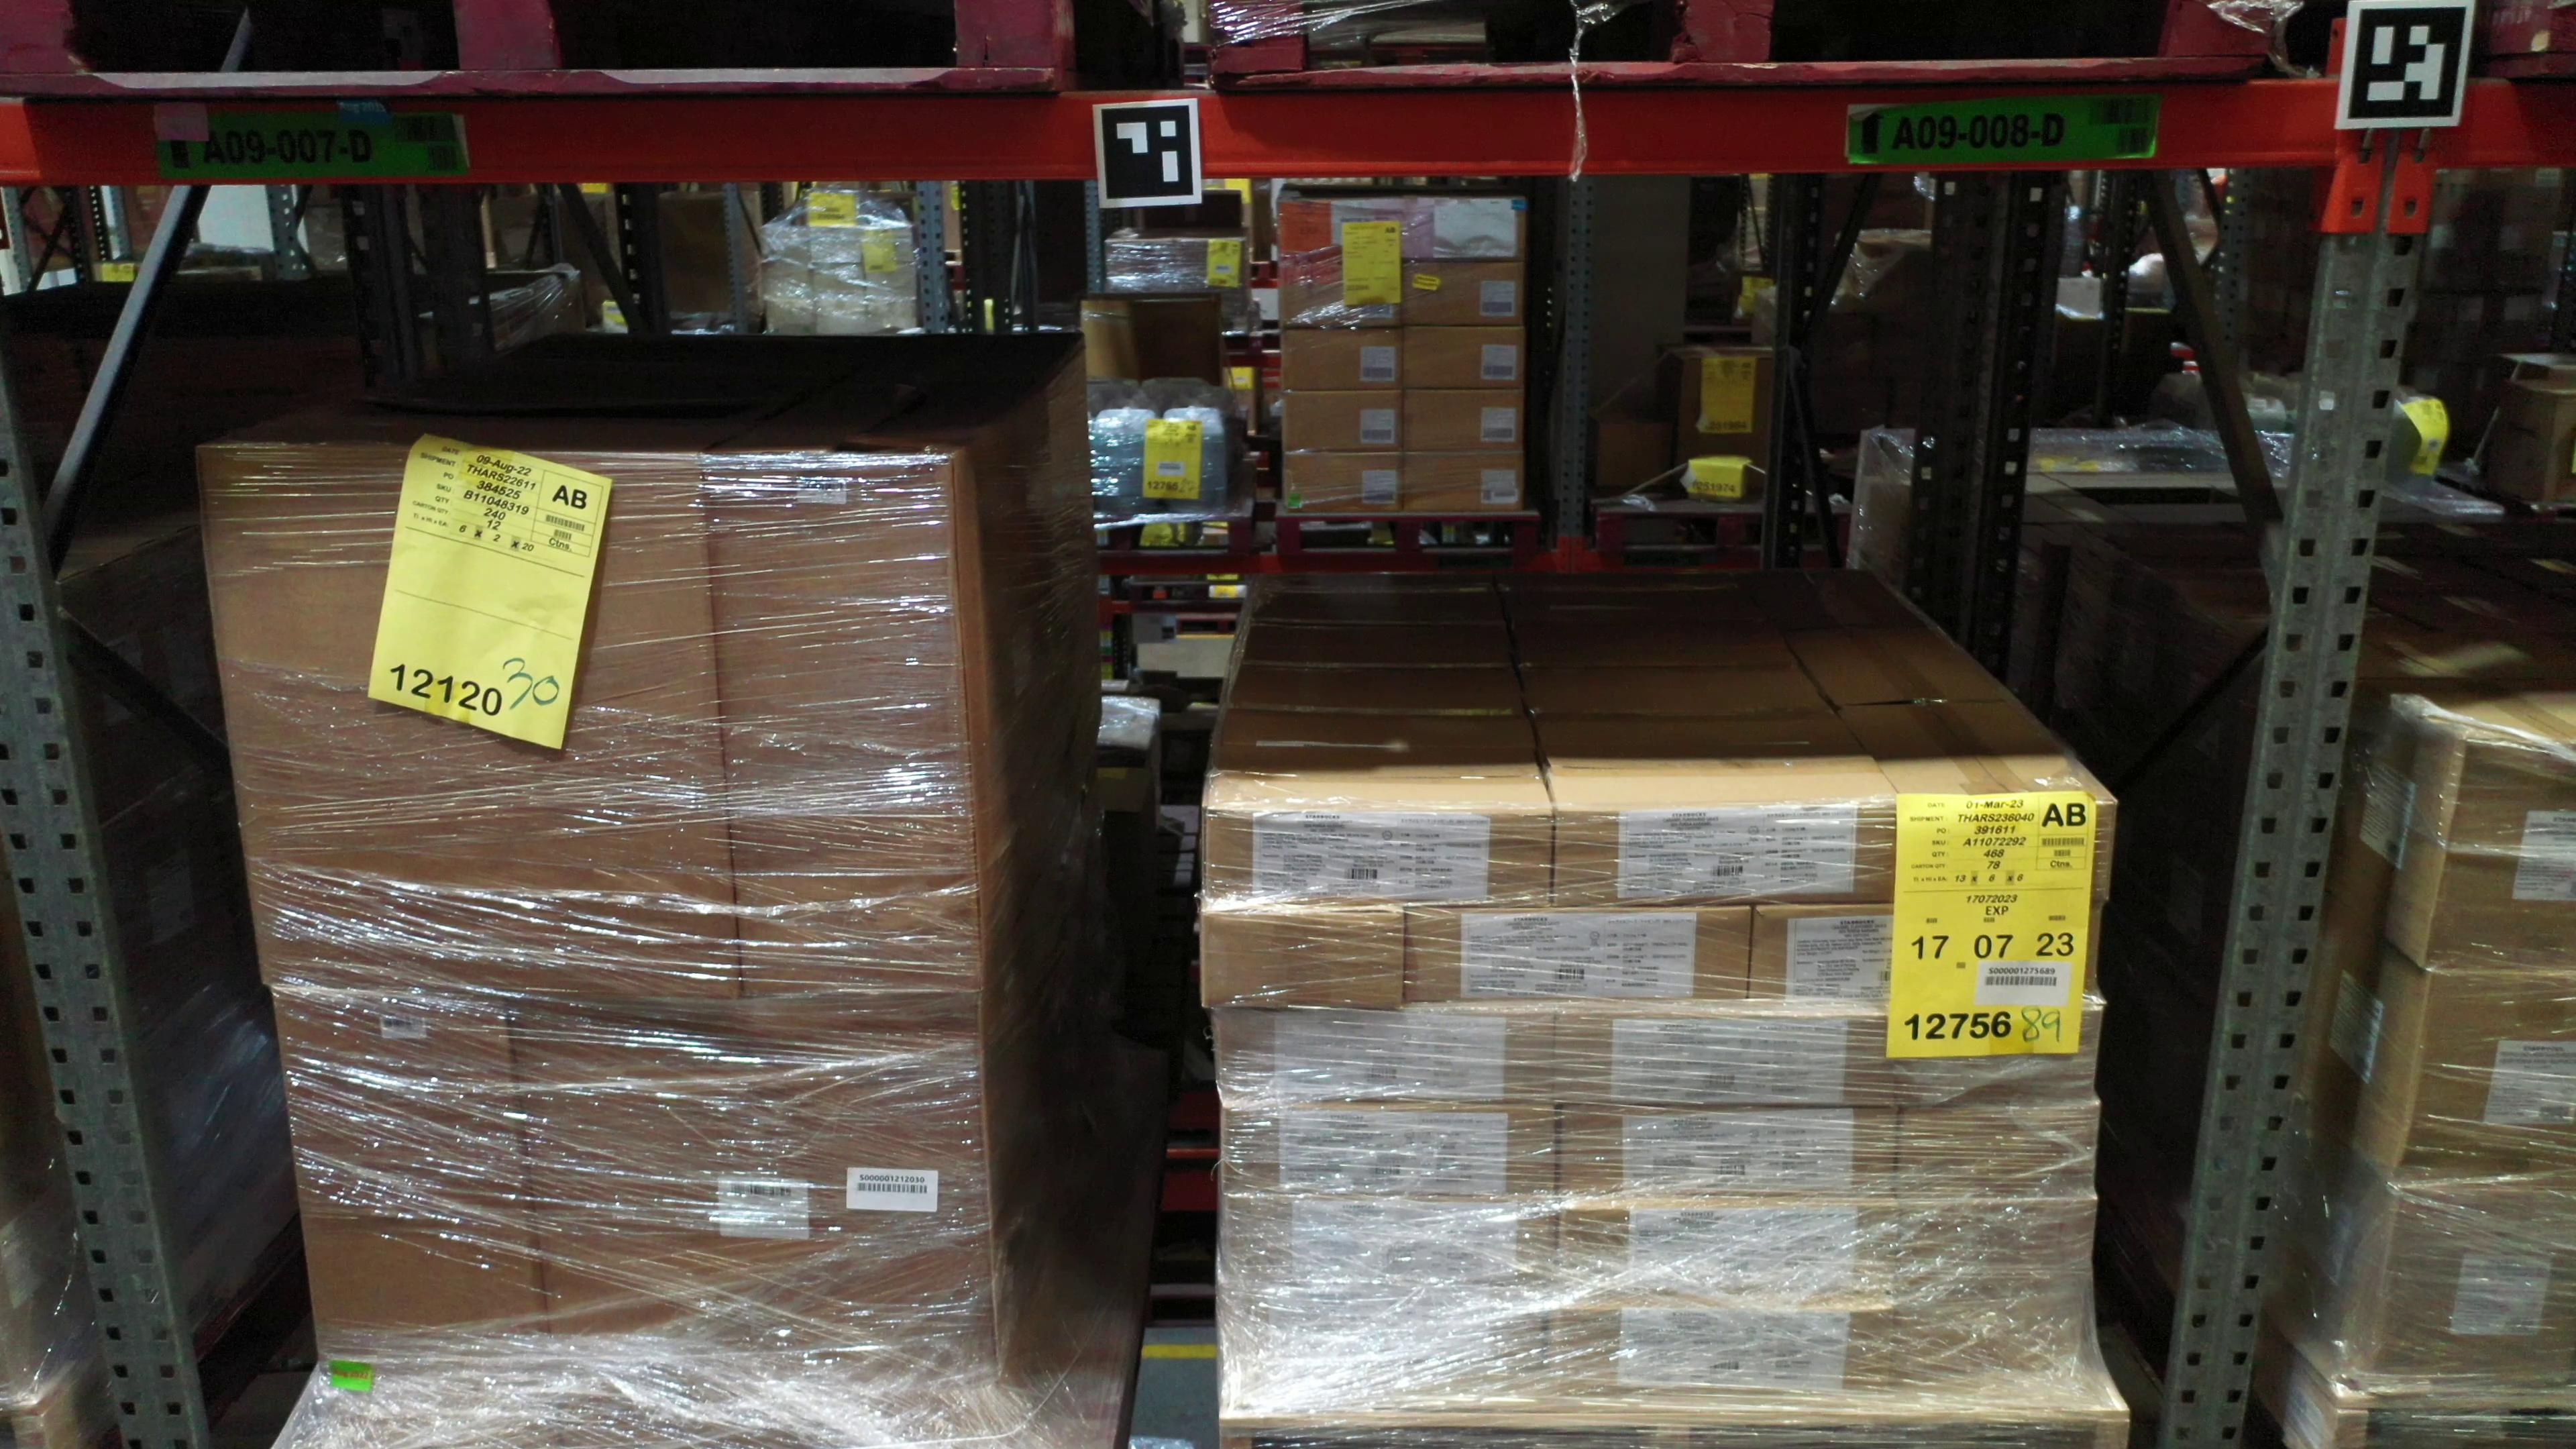-: (188, 439, 740, 1003), (504, 1001, 994, 1449), (706, 456, 977, 1008), (272, 989, 563, 1449), (2373, 1189, 2576, 1389), (1201, 805, 1559, 916), (2396, 978, 2576, 1187), (1552, 807, 1905, 913), (2419, 743, 2576, 975), (1557, 1106, 1900, 1212), (1552, 1205, 1900, 1309), (1221, 1198, 1557, 1306), (1403, 904, 1755, 1007), (1215, 1008, 1553, 1113), (1746, 909, 2095, 1008), (1552, 1010, 1898, 1109), (1221, 1293, 1552, 1392), (1228, 1108, 1552, 1207), (1550, 1302, 1897, 1392), (1902, 801, 2116, 908), (1898, 1200, 2100, 1309), (1898, 1008, 2104, 1111), (1201, 911, 1405, 1012), (1900, 1106, 2100, 1205), (1893, 1302, 2086, 1399)
